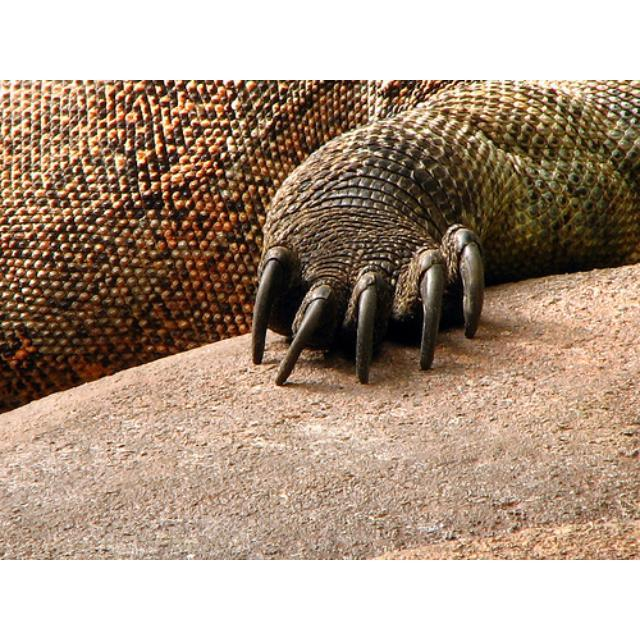KomodoDragon: (2, 81, 636, 386)
